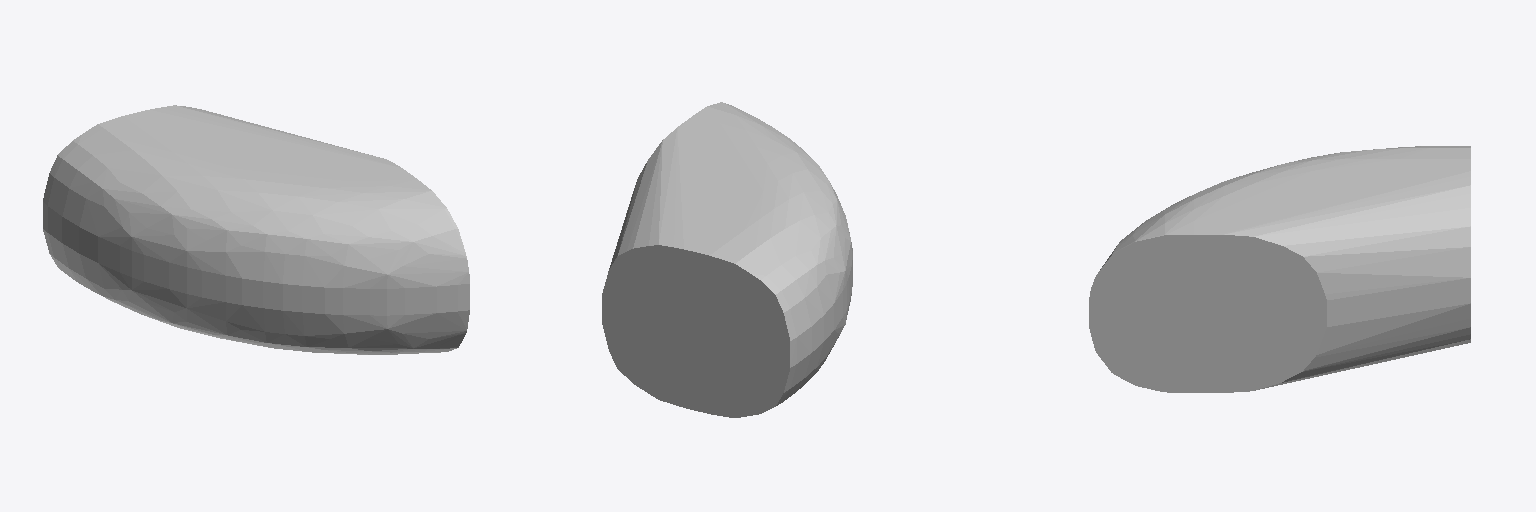
The model's file is wagon_V2_top-handle-original v1_collision_4.obj.
3 renders of one model, left to right at view 1: azimuth 30°, elevation 25°; view 2: azimuth 150°, elevation 25°; view 3: azimuth 270°, elevation 25°, orthographic.
Bounding box in the file's own units: 3.85 × 2.45 × 5.36.